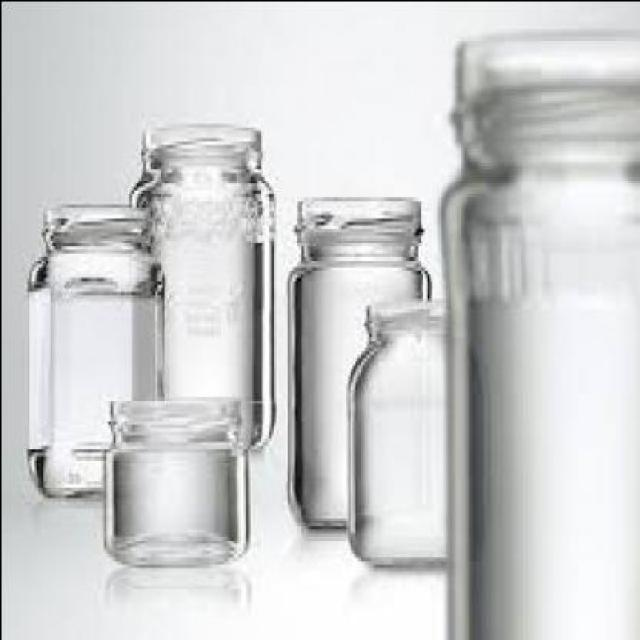GLASS: (438, 28, 638, 637), (125, 122, 273, 448), (284, 196, 425, 538), (25, 199, 161, 501), (344, 297, 484, 571), (99, 395, 247, 570)
